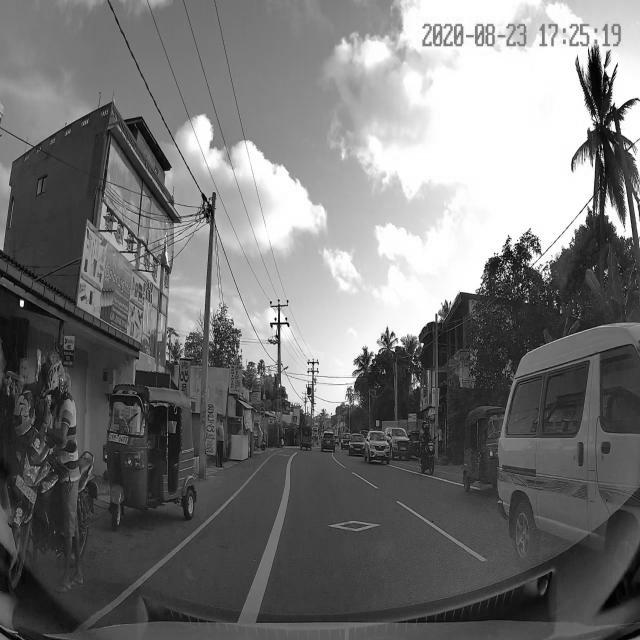diamond: (268, 516, 445, 535)
